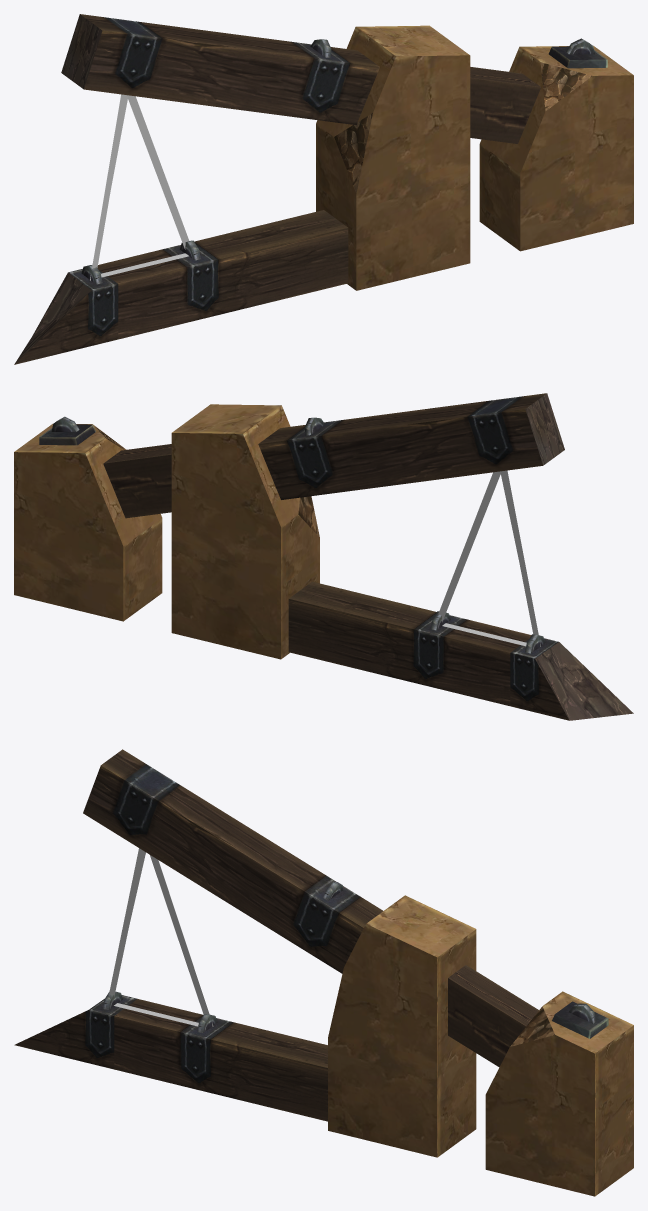
The model's file is A_mutou_020.fbx.
3 views of the same model, one above another, from view 1: azimuth 30°, elevation 25°; view 2: azimuth 150°, elevation 25°; view 3: azimuth 330°, elevation 25° (orthographic). The views are drawn at different scales.
Parts seen in each view (by area): view 1: pasted__A_mutou_020; view 2: pasted__A_mutou_020; view 3: pasted__A_mutou_020.
Part boxes in pixels (<box>): pasted__A_mutou_020: <box>14,14,633,364</box>; pasted__A_mutou_020: <box>14,393,633,720</box>; pasted__A_mutou_020: <box>14,749,633,1196</box>.
Bounding box in the file's own units: 648 × 318 × 74.3.
